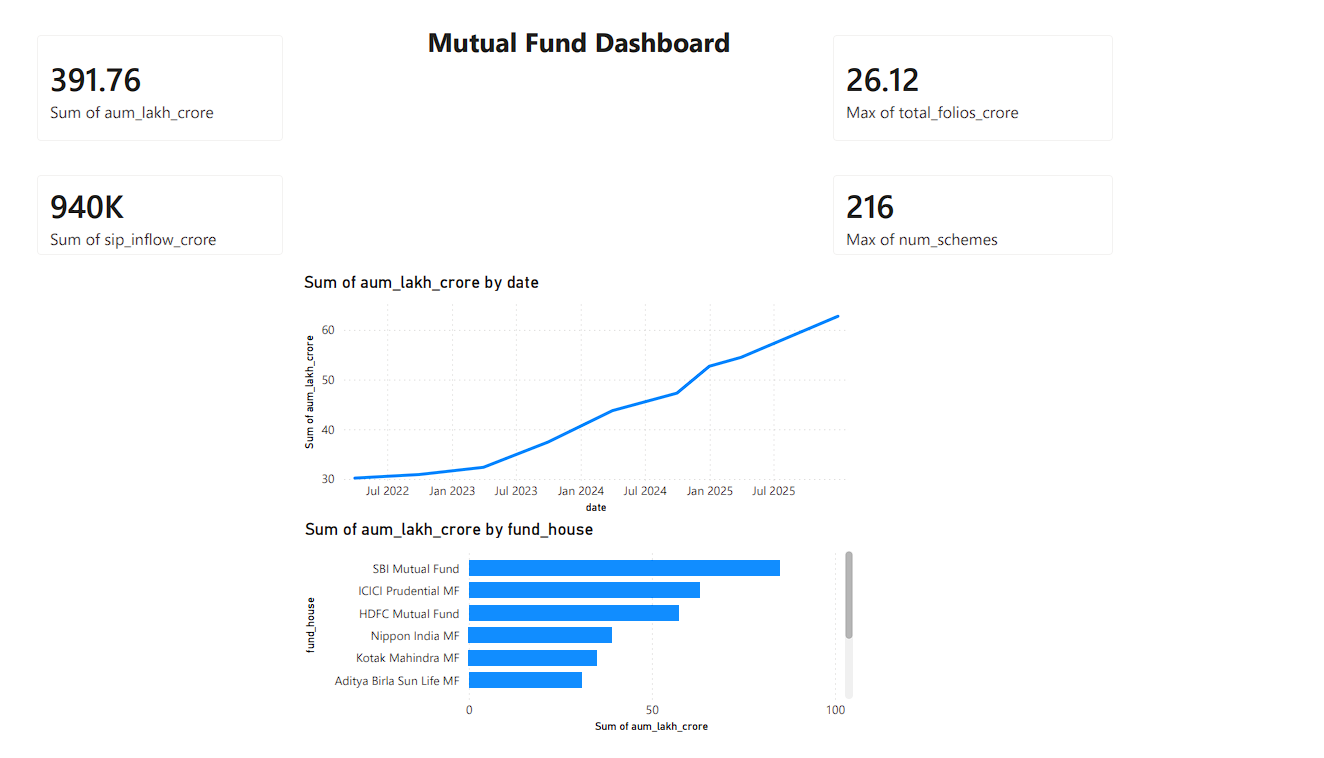

The page's visual inventory and layout, read from the dashboard file:
{"tool":"powerbi","page":{"name":"Dashboard","canvas":[1280,720],"ordinal":0},"visuals":[{"type":"cardVisual","fields":{"Data":["Sum(04_monthly_sip_inflows.sip_inflow_crore)"]},"box":[0,140,280,113.8],"z":0},{"type":"cardVisual","fields":{"Data":["Sum(03_aum_by_fund_house.aum_lakh_crore)"]},"box":[0,0,280,140],"z":1000},{"type":"cardVisual","fields":{"Data":["Max(06_industry_folio_count.total_folios_crore)"]},"box":[796.2,0,313.8,140],"z":2000},{"type":"cardVisual","fields":{"Data":["Max(03_aum_by_fund_house.num_schemes)"]},"box":[796.2,140,313.8,113.8],"z":3000},{"type":"lineChart","fields":{"Y":["Sum(03_aum_by_fund_house.aum_lakh_crore)"],"Category":["03_aum_by_fund_house.date"]},"box":[278.8,253.8,557.5,247.5],"z":4000},{"type":"clusteredBarChart","fields":{"Y":["Sum(03_aum_by_fund_house.aum_lakh_crore)"],"Category":["03_aum_by_fund_house.fund_house"]},"box":[280,501.2,557.5,218.8],"z":5000},{"type":"textbox","box":[368.8,0,380,150],"z":6000}]}

Visuals, with their boxes in screenshot pixels (x1, y1, x2, y2), scaled from the page's 1280x720 canvas onto the 1324x758 screenshot:
cardVisual - Sum(04_monthly_sip_inflows.sip_inflow_crore): locate(0, 147, 290, 267)
cardVisual - Sum(03_aum_by_fund_house.aum_lakh_crore): locate(0, 0, 290, 147)
cardVisual - Max(06_industry_folio_count.total_folios_crore): locate(824, 0, 1148, 147)
cardVisual - Max(03_aum_by_fund_house.num_schemes): locate(824, 147, 1148, 267)
lineChart - Sum(03_aum_by_fund_house.aum_lakh_crore) x 03_aum_by_fund_house.date: locate(288, 267, 865, 528)
clusteredBarChart - Sum(03_aum_by_fund_house.aum_lakh_crore) x 03_aum_by_fund_house.fund_house: locate(290, 528, 866, 757)
textbox: locate(381, 0, 775, 158)
